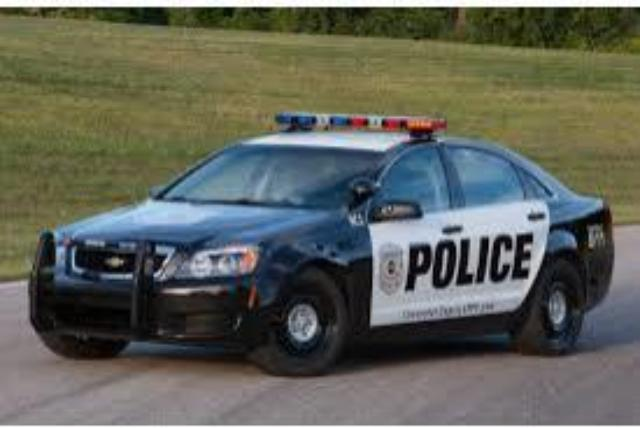police_car: (28, 112, 617, 377)
